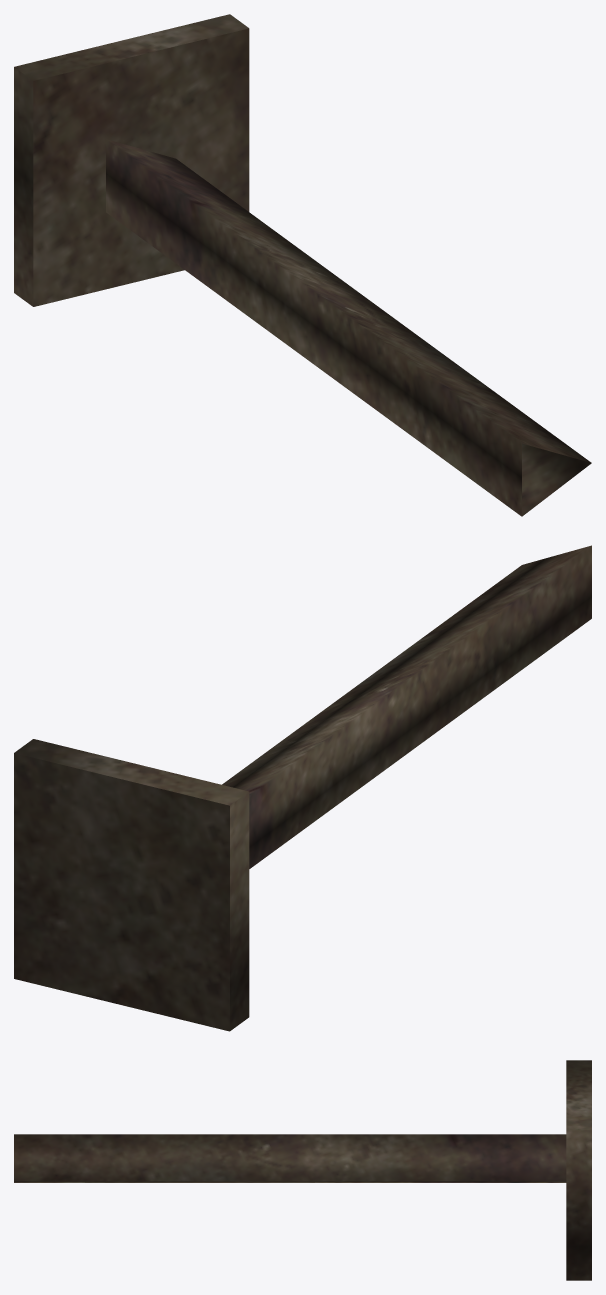
Rendered from TI_Nail_06.fbx.
3 renders of one model, top to bottom at view 1: azimuth 30°, elevation 25°; view 2: azimuth 150°, elevation 25°; view 3: azimuth 270°, elevation 25°, orthographic. The views are drawn at different scales.
Visible parts, largest first — view 1: TI_Nail_06; view 2: TI_Nail_06; view 3: TI_Nail_06.
Boxes of the visible parts, left/top/right/bottom form: TI_Nail_06: left=14, top=14, right=591, bottom=516; TI_Nail_06: left=14, top=545, right=591, bottom=1031; TI_Nail_06: left=14, top=1060, right=591, bottom=1280.
Size of the model in its own units: 0.0497 by 0.0497 by 0.1733.
